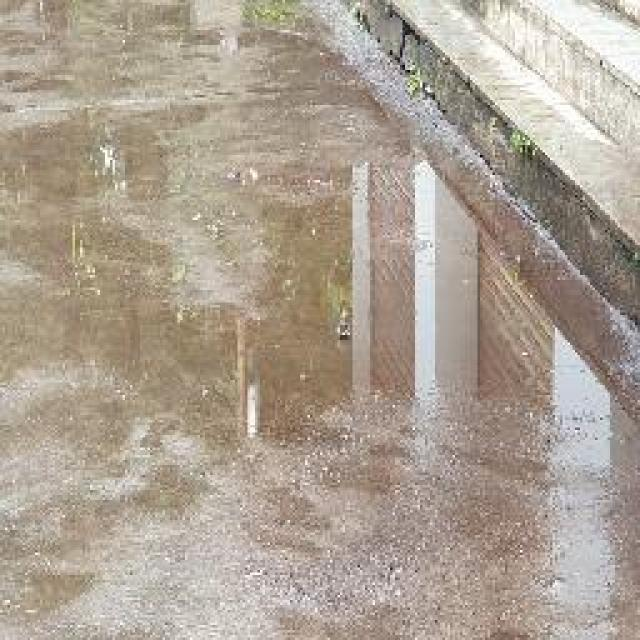stagnation: (210, 130, 621, 453)
